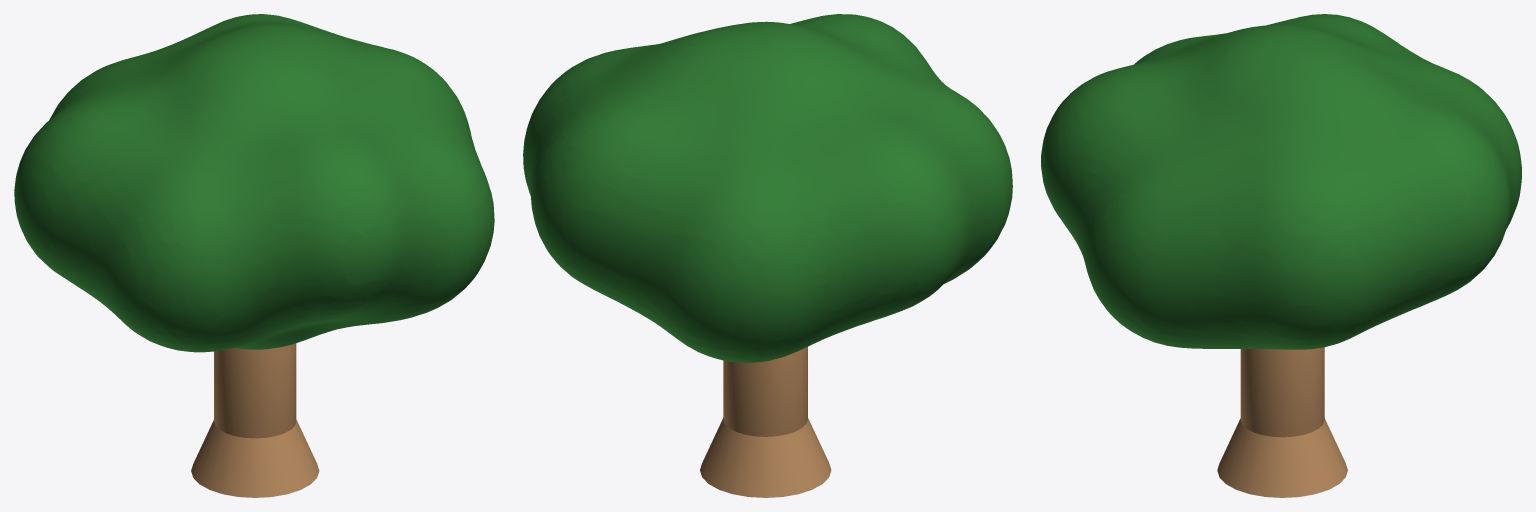
File: tree.glb
3 views of the same model, side by side, from view 1: azimuth 30°, elevation 25°; view 2: azimuth 150°, elevation 25°; view 3: azimuth 270°, elevation 25° (orthographic). The views are drawn at different scales.
Visible parts, largest first — view 1: tree; view 2: tree; view 3: tree.
Boxes of the visible parts, x1,y1,x2,y2 form: tree: (14,14,494,497); tree: (523,14,1012,497); tree: (1041,14,1521,497).
Size of the model in its own units: 1.06 by 1.02 by 1.03.
